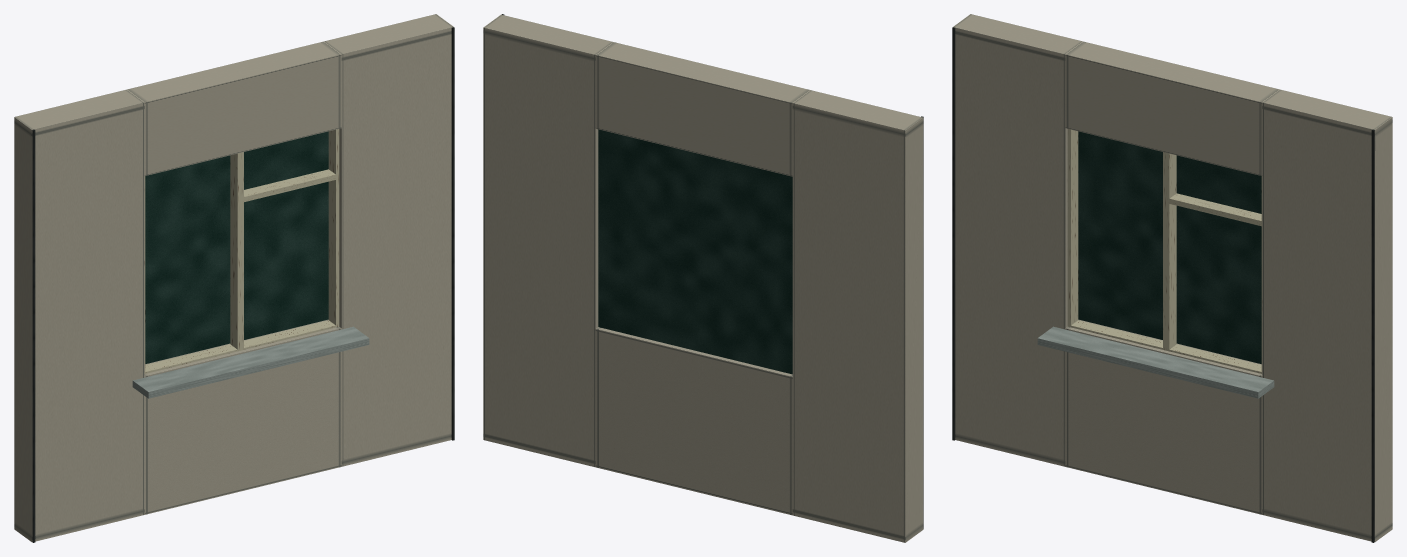
The model's file is CIS_PanelFacade.glb.
The picture shows the model from 3 angles, left to right: view 1: azimuth 30°, elevation 25°; view 2: azimuth 150°, elevation 25°; view 3: azimuth 330°, elevation 25°; orthographic projection.
Parts seen in each view (by area): view 1: CIS_PanelFacade; view 2: CIS_PanelFacade; view 3: CIS_PanelFacade.
Boxes of the visible parts, x1,y1,x2,y2 form: CIS_PanelFacade: (14,14,454,542); CIS_PanelFacade: (483,14,923,542); CIS_PanelFacade: (952,14,1392,542).
Size of the model in its own units: 3 by 2.8 by 0.415.
Materials: 5 (5 with a texture image).
